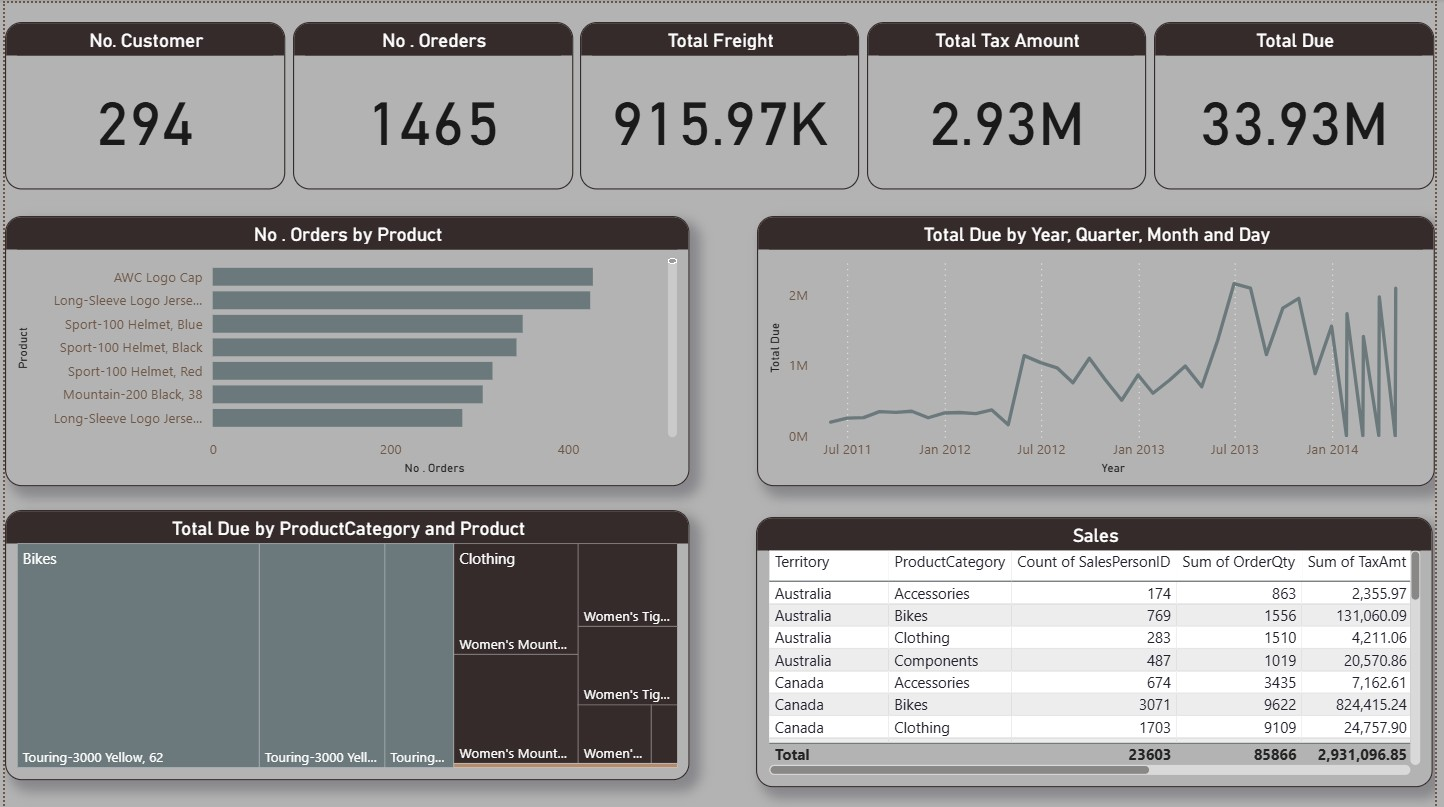

This screenshot's page, from the dashboard's own definition file:
{"tool":"powerbi","page":{"name":"Overview","canvas":[1280,720],"ordinal":0},"visuals":[{"type":"card","title":"No . Oreders","fields":{"Values":["Mymeasures.No . Orders"]},"box":[257.6,16.9,250.9,149.9],"z":0},{"type":"card","title":"No. Customer","fields":{"Values":["Mymeasures.No. Custmers"]},"box":[0,16.8,250.9,149.9],"z":1000},{"type":"card","title":"Total Tax Amount","fields":{"Values":["Mymeasures.Total Tax Amount"]},"box":[772,17,250,149.9],"z":2000},{"type":"card","title":"Total Freight","fields":{"Values":["Mymeasures.Total Freight"]},"box":[515.2,16.9,250,149.9],"z":3000},{"type":"card","title":"Total Due","fields":{"Values":["Mymeasures.Total Due"]},"box":[1028.7,17,251.1,150],"z":4000},{"type":"lineChart","fields":{"Y":["Mymeasures.Total Due"],"Category":["DimDate.OrderDate.Variation.Date Hierarchy.Year","DimDate.OrderDate.Variation.Date Hierarchy.Quarter","DimDate.OrderDate.Variation.Date Hierarchy.Month","DimDate.OrderDate.Variation.Date Hierarchy.Day"]},"box":[673,191,607,242],"z":5000},{"type":"barChart","fields":{"Category":["DimProduct.Product"],"Y":["Mymeasures.No . Orders"]},"box":[0,190.6,612.7,242.1],"z":6000},{"type":"treemap","fields":{"Group":["DimProduct.ProductCategory"],"Details":["DimProduct.Product"],"Values":["Mymeasures.Total Due"]},"box":[0,454,613.4,241.8],"z":7000},{"type":"tableEx","title":"Sales","fields":{"Values":["DimTerritory.Territory","DimProduct.ProductCategory","CountNonNull(FactSales.SalesPersonID)","Sum(FactSales.OrderQty)","Sum(FactSales.TaxAmt)","Sum(FactSales.Freight)","Min(FactSales.OrderDate)","Sum(FactSales.TotalDue)"]},"box":[672.5,460.3,606.3,241.8],"z":8000}]}

Visuals, with their boxes in screenshot pixels (x1, y1, x2, y2), scaled from the page's 1280x720 canvas onto the 1444x807 screenshot:
"No . Oreders" card: {"left": 291, "top": 19, "right": 574, "bottom": 187}
"No. Customer" card: {"left": 0, "top": 19, "right": 283, "bottom": 187}
"Total Tax Amount" card: {"left": 871, "top": 19, "right": 1153, "bottom": 187}
"Total Freight" card: {"left": 581, "top": 19, "right": 863, "bottom": 187}
"Total Due" card: {"left": 1161, "top": 19, "right": 1443, "bottom": 187}
lineChart - Mymeasures.Total Due x DimDate.OrderDate.Variation.Date Hierarchy.Year: {"left": 759, "top": 214, "right": 1443, "bottom": 485}
barChart - DimProduct.Product x Mymeasures.No . Orders: {"left": 0, "top": 214, "right": 691, "bottom": 485}
treemap - DimProduct.ProductCategory x DimProduct.Product: {"left": 0, "top": 509, "right": 692, "bottom": 780}
"Sales" tableEx: {"left": 759, "top": 516, "right": 1443, "bottom": 787}
